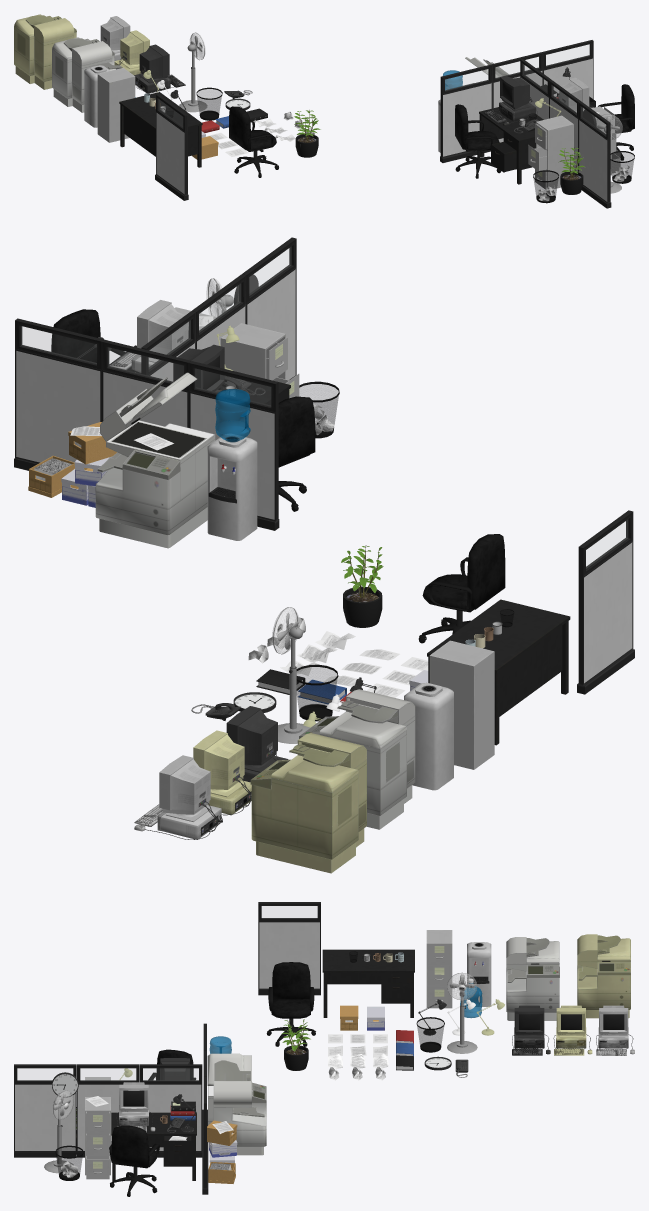
File: 90s_retro_office_pack_compressed.glb
3 views of the same model, one above another, from view 1: azimuth 30°, elevation 25°; view 2: azimuth 150°, elevation 25°; view 3: azimuth 270°, elevation 25° (orthographic). The views are drawn at different scales.
Parts seen in each view (by area): view 1: Cubicle_Wall.005_98, Cubicle_Wall.004_97, Cubicle_Wall.003_64, Desk.004_19, Filing Cainet Base.015_45, Printer Base.003_46, Printer Base.004_48, Chair 1.001_65, Cube.010_160, Chair 1.003_100, Desk.003_109, Printer Top.004_49 (+19 smaller); view 2: Cubicle_Wall.005_98, Cube.012_162, Printer Base.003_46, Cubicle_Wall.004_97, Cubicle_Wall.003_64, Desk.004_19, Filing Cainet Base.015_45, Cooler.001_120, Chair 1.001_65, Printer Base.004_48, Cooler.003_25, Printer Top.004_49 (+17 smaller); view 3: Cubicle_Wall.004_97, Cubicle_Wall.003_64, Desk.004_19, Chair 1.001_65, Printer Base.004_48, Printer Base.003_46, Cube.012_162, Cube.013_164, Chair 1.002_99, Cooler.003_25, Printer Top.004_49, Printer Top.003_47 (+26 smaller).
Boxes of the visible parts, x1=… form: Cubicle_Wall.005_98: x1=440, y1=40, x2=593, y2=162; Cubicle_Wall.004_97: x1=520, y1=59, x2=611, y2=208; Cubicle_Wall.003_64: x1=155, y1=94, x2=188, y2=200; Desk.004_19: x1=119, y1=92, x2=202, y2=167; Filing Cainet Base.015_45: x1=97, y1=67, x2=135, y2=142; Printer Base.003_46: x1=14, y1=26, x2=76, y2=89; Printer Base.004_48: x1=52, y1=49, x2=121, y2=112; Chair 1.001_65: x1=229, y1=106, x2=278, y2=177; Cube.010_160: x1=536, y1=115, x2=573, y2=188; Chair 1.003_100: x1=455, y1=104, x2=501, y2=178; Desk.003_109: x1=479, y1=107, x2=543, y2=184; Printer Top.004_49: x1=52, y1=37, x2=112, y2=65; Cubicle_Wall.005_98: x1=14, y1=318, x2=279, y2=530; Cube.012_162: x1=95, y1=420, x2=215, y2=548; Printer Base.003_46: x1=250, y1=759, x2=366, y2=873; Cubicle_Wall.004_97: x1=141, y1=237, x2=296, y2=381; Cubicle_Wall.003_64: x1=577, y1=510, x2=634, y2=694; Desk.004_19: x1=427, y1=599, x2=570, y2=745; Filing Cainet Base.015_45: x1=429, y1=640, x2=494, y2=769; Cooler.001_120: x1=207, y1=434, x2=257, y2=540; Chair 1.001_65: x1=418, y1=534, x2=505, y2=643; Printer Base.004_48: x1=299, y1=716, x2=415, y2=829; Cooler.003_25: x1=404, y1=682, x2=453, y2=790; Printer Top.004_49: x1=319, y1=689, x2=415, y2=749; Cubicle_Wall.004_97: x1=14, y1=1064, x2=202, y2=1157; Cubicle_Wall.003_64: x1=258, y1=902, x2=320, y2=995; Desk.004_19: x1=322, y1=949, x2=414, y2=1017; Chair 1.001_65: x1=266, y1=962, x2=315, y2=1046; Printer Base.004_48: x1=506, y1=964, x2=559, y2=1020; Printer Base.003_46: x1=577, y1=962, x2=630, y2=1018; Cube.012_162: x1=208, y1=1082, x2=266, y2=1155; Cube.013_164: x1=207, y1=1053, x2=251, y2=1104; Chair 1.002_99: x1=109, y1=1125, x2=159, y2=1196; Cooler.003_25: x1=467, y1=942, x2=491, y2=1006; Printer Top.004_49: x1=506, y1=937, x2=559, y2=964; Printer Top.003_47: x1=577, y1=934, x2=630, y2=961.
Size of what is drawn, in the model's own units: 6.8 by 1.43 by 8.69.
Materials: 71 (66 with a texture image).
